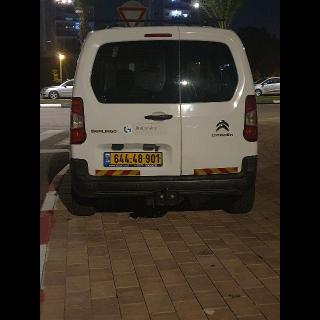LicensePlate: (111, 154, 162, 165)
